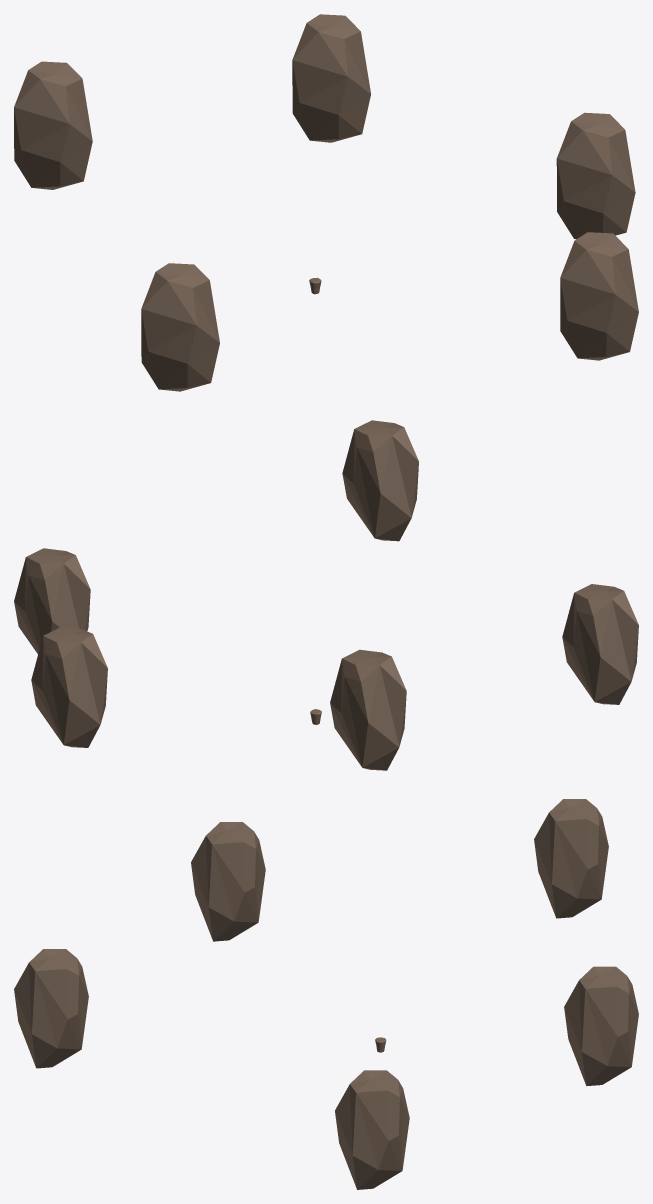
3 renders of one model, top to bottom at view 1: azimuth 30°, elevation 25°; view 2: azimuth 150°, elevation 25°; view 3: azimuth 270°, elevation 25°, orthographic. The views are drawn at different scales.
Visible parts, largest first — view 1: 立方体.004, 立方体.001, 立方体.006, 立方体.003, 立方体.005; view 2: 立方体.003, 立方体.001, 立方体.004, 立方体.006, 立方体.005; view 3: 立方体.001, 立方体.005, 立方体.004, 立方体.003, 立方体.006.
Part boxes in pixels (box(x1,y1,x2,y2)): 立方体.004: box(141, 263, 219, 391); 立方体.001: box(292, 14, 370, 142); 立方体.006: box(560, 232, 638, 360); 立方体.003: box(14, 61, 92, 189); 立方体.005: box(556, 112, 635, 239); 立方体.003: box(330, 649, 406, 770); 立方体.001: box(31, 627, 107, 747); 立方体.004: box(562, 584, 638, 704); 立方体.006: box(342, 420, 418, 541); 立方体.005: box(14, 548, 90, 653); 立方体.001: box(564, 966, 638, 1086); 立方体.005: box(335, 1070, 409, 1189); 立方体.004: box(191, 822, 265, 941); 立方体.003: box(534, 799, 608, 918); 立方体.006: box(14, 949, 88, 1068).
Size of the model in its own units: 134 by 44.8 by 138.
